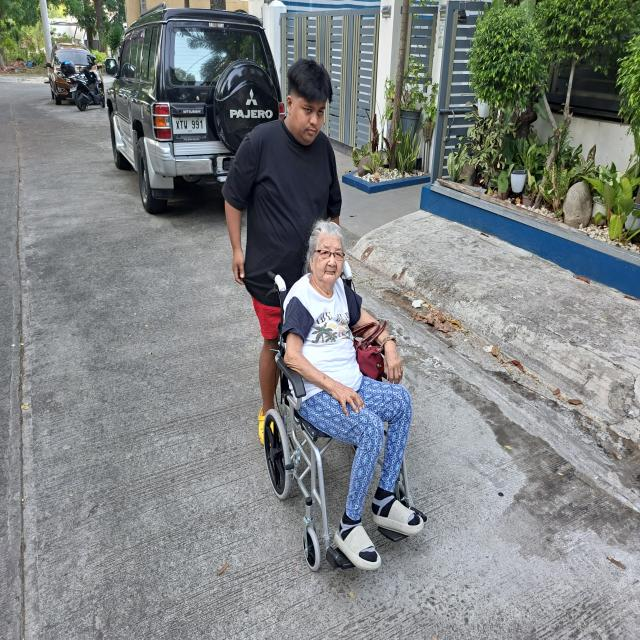wheelchairs: (257, 259, 429, 579)
